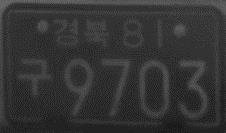0: (138, 59, 172, 120)
1: (155, 17, 166, 51)
3: (176, 57, 209, 122)
7: (98, 56, 133, 119)
8: (120, 17, 144, 49)
9: (62, 56, 95, 117)
경북_O: (51, 16, 111, 50)
구: (14, 55, 53, 100)
